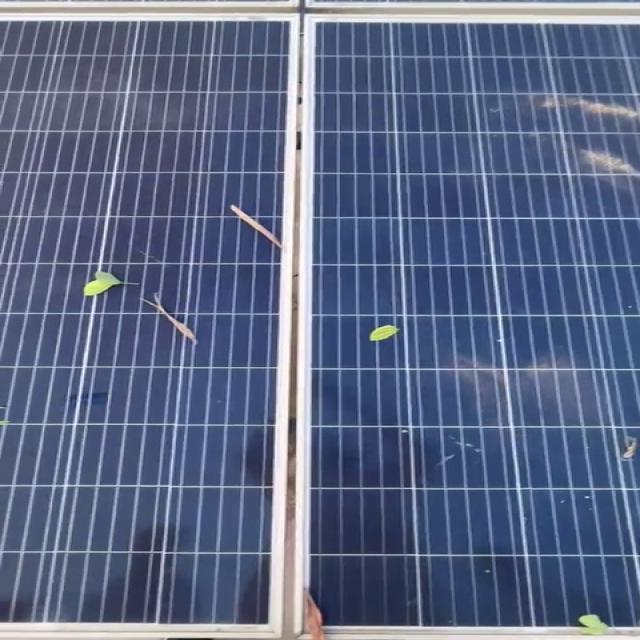bird_dropping: (443, 434, 520, 474), (608, 438, 640, 472)
dust_partical: (0, 70, 203, 161), (443, 357, 640, 426), (534, 94, 640, 195)
old_leaf: (222, 197, 285, 263), (296, 577, 351, 640), (147, 286, 200, 348), (73, 259, 134, 307), (361, 315, 398, 351), (581, 601, 613, 640)
